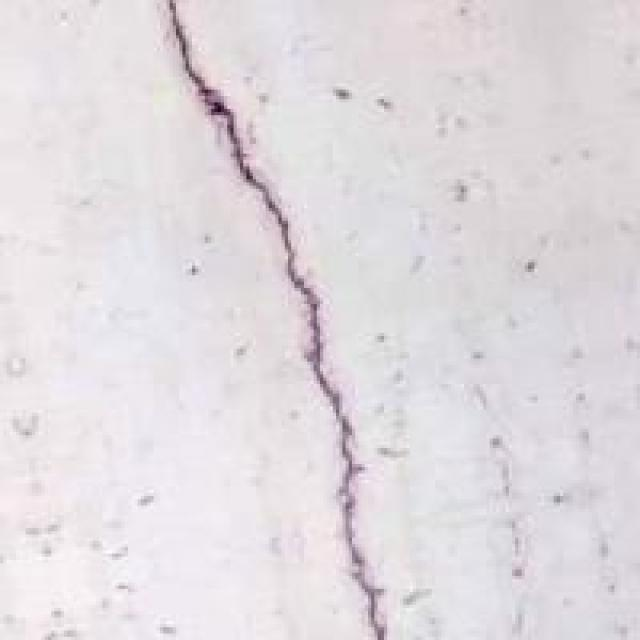crack: (170, 0, 454, 637)
